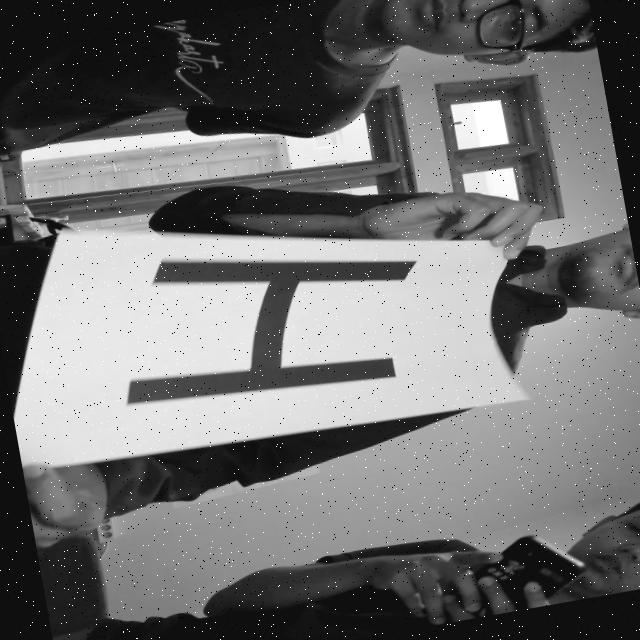h: (43, 202, 455, 449)
